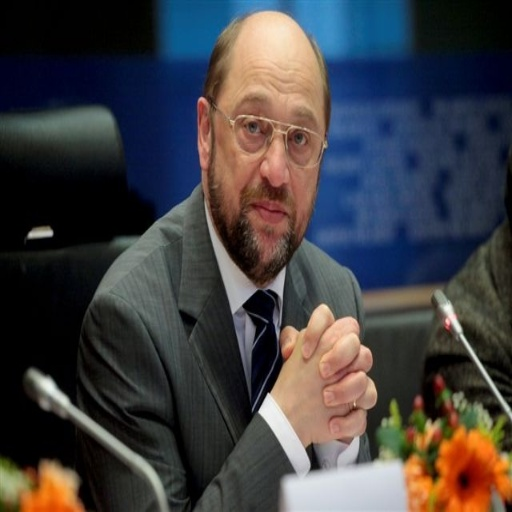hand: (278, 302, 368, 435)
